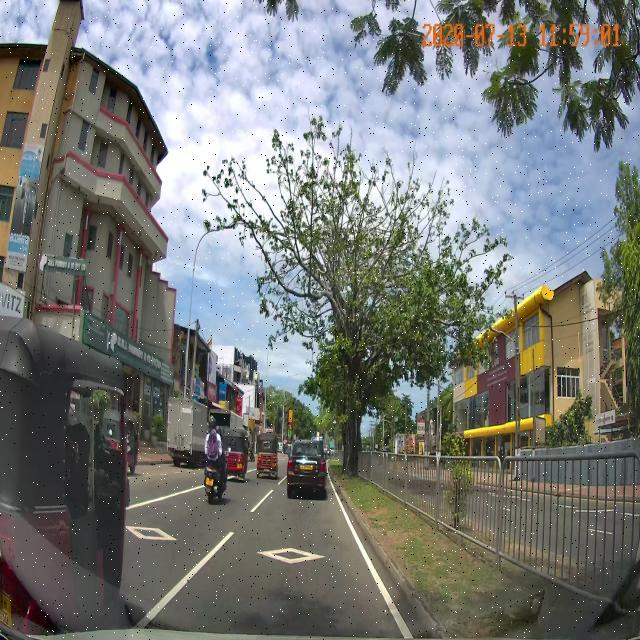diamond: (180, 528, 391, 590)
